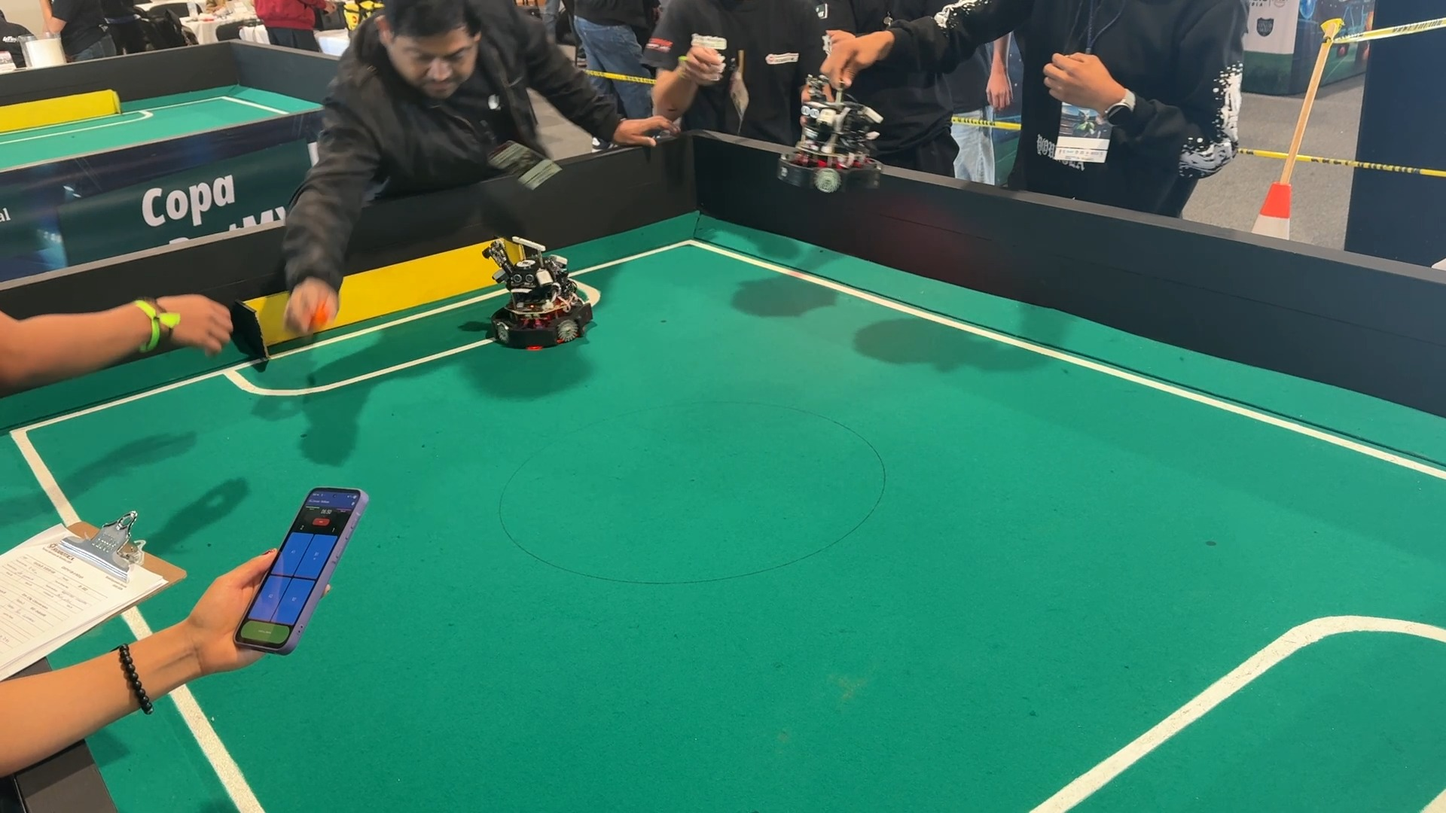Robot: (459, 225, 615, 371), (771, 66, 899, 214)
pelota: (294, 299, 354, 329)
